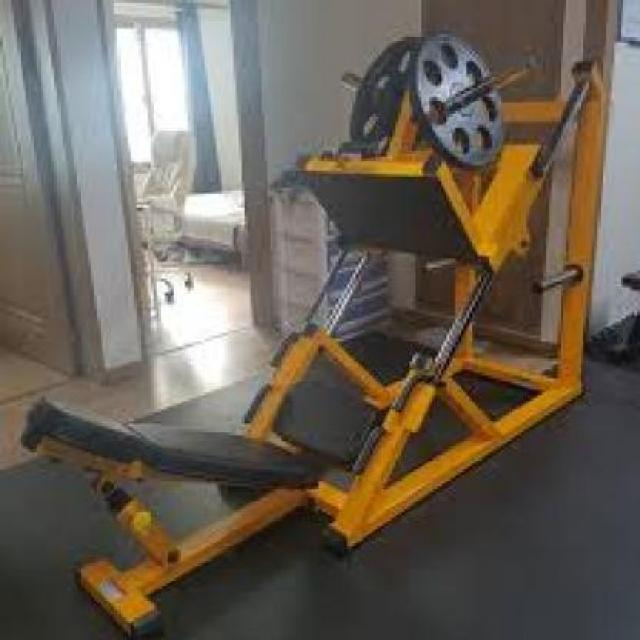leg press: (20, 17, 609, 629)
